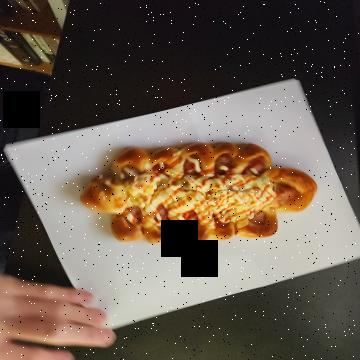pizza_bread: (147, 45, 250, 289)
